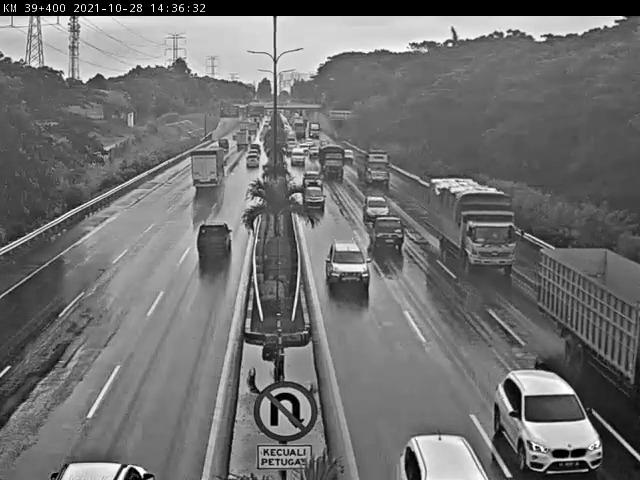big truck: (429, 176, 517, 276), (358, 149, 394, 188), (188, 150, 223, 190), (317, 144, 343, 177)
car: (494, 369, 605, 476), (325, 240, 371, 287), (192, 222, 235, 256), (371, 213, 406, 248), (359, 192, 387, 217), (300, 167, 322, 191), (303, 184, 325, 207), (244, 154, 260, 170)
